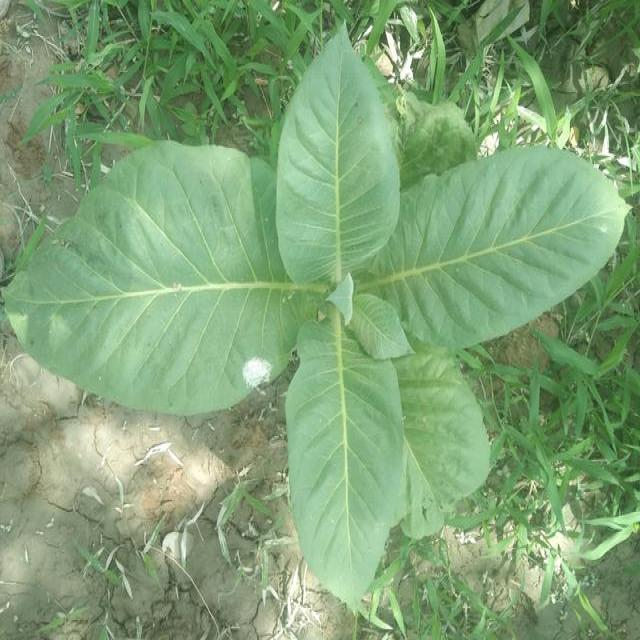crop: (31, 61, 612, 578)
